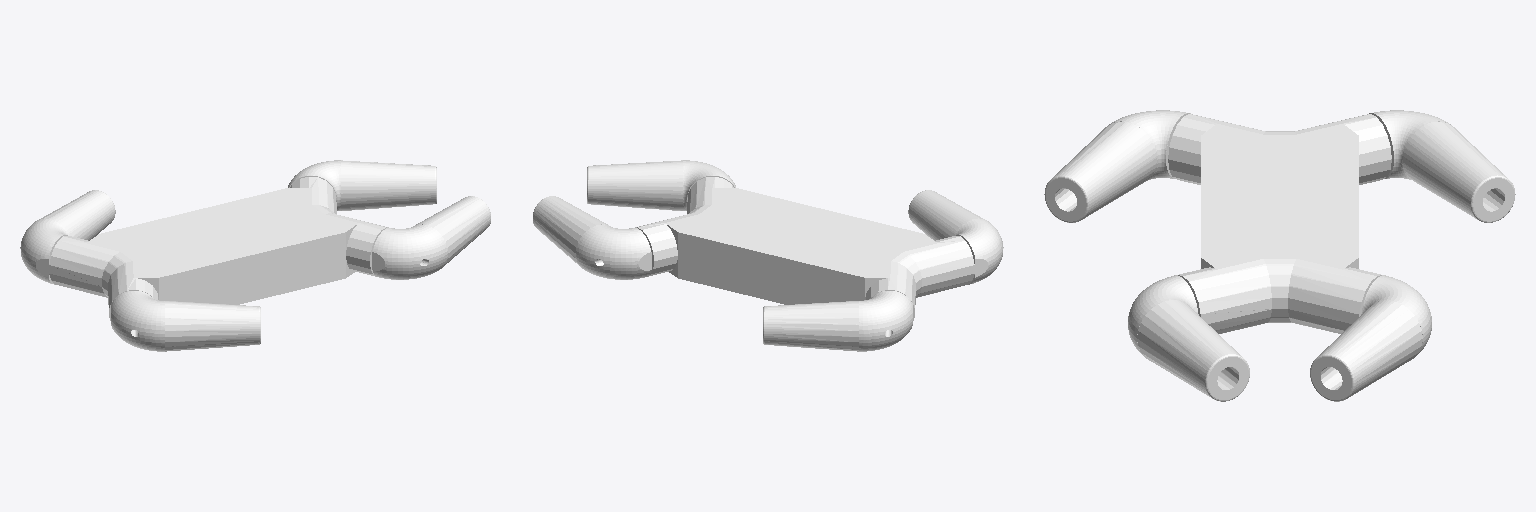
robot.urdf — 29_degree:
<?xml version="1.0" encoding="utf-8"?>
<!-- This URDF was automatically created by SolidWorks to URDF Exporter! Originally created by [author] ([email redacted]) 
     Commit Version: 1.5.1-0-g916b5db  Build Version: 1.5.7152.31018
     For more information, please see http://wiki.ros.org/sw_urdf_exporter -->
<robot
  name="29_degree">
  <link
    name="base_link">
    <inertial>
      <origin
        xyz="-1.3878E-17 5.3543E-08 3.4685E-08"
        rpy="0 0 0" />
      <mass
        value="2.942" />
      <inertia
        ixx="0.0092846"
        ixy="2.0444E-08"
        ixz="-1.5203E-10"
        iyy="0.0491402"
        iyz="4.3172E-19"
        izz="0.0559820" />
    </inertial>
    <visual>
      <origin
        xyz="0 0 0"
        rpy="0 0 0" />
      <geometry>
        <mesh
          filename="package://29_degree/meshes/base_link.STL" />
      </geometry>
      <material
        name="">
        <color
          rgba="1 1 1 1" />
      </material>
    </visual>
    <collision>
      <origin
        xyz="0 0 0"
        rpy="0 0 0" />
      <geometry>
        <mesh
          filename="package://29_degree/meshes/base_link.STL" />
      </geometry>
    </collision>
  </link>
  <link
    name="left_front_link">
    <inertial>
      <origin
        xyz="-8.9111E-08 0.056834 -0.03601"
        rpy="0 0 0" />
      <mass
        value="0.092" />
      <inertia
        ixx="0.0002604"
        ixy="5.3419E-10"
        ixz="2.4545E-10"
        iyy="0.0000526"
        iyz="2.27E-05"
        izz="0.0002575" />
    </inertial>
    <visual>
      <origin
        xyz="0 0 0"
        rpy="0 0 0" />
      <geometry>
        <mesh
          filename="package://29_degree/meshes/left_front_link.STL" />
      </geometry>
      <material
        name="">
        <color
          rgba="1 1 1 1" />
      </material>
    </visual>
    <collision>
      <origin
        xyz="0 0 0"
        rpy="0 0 0" />
      <geometry>
        <mesh
          filename="package://29_degree/meshes/left_front_link.STL" />
      </geometry>
    </collision>
  </link>
  <joint
    name="left_front_leg"
    type="continuous">
    <origin
      xyz="0.17994 0.090086 0"
      rpy="2.0769 1.5708 0" />
    <parent
      link="base_link" />
    <child
      link="left_front_link" />
    <axis
      xyz="0 0 -1" />
    <limit
      effort="5"
      velocity="487" />
  </joint>
  <link
    name="right_front_link">
    <inertial>
      <origin
        xyz="8.9111E-08 0.056834 0.03601"
        rpy="0 0 0" />
      <mass
        value="0.092" />
      <inertia
        ixx="0.0002604"
        ixy="-5.3419E-10"
        ixz="2.4545E-10"
        iyy="0.0000526"
        iyz="-2.27E-05"
        izz="0.0002575" />
    </inertial>
    <visual>
      <origin
        xyz="0 0 0"
        rpy="0 0 0" />
      <geometry>
        <mesh
          filename="package://29_degree/meshes/right_front_link.STL" />
      </geometry>
      <material
        name="">
        <color
          rgba="1 1 1 1" />
      </material>
    </visual>
    <collision>
      <origin
        xyz="0 0 0"
        rpy="0 0 0" />
      <geometry>
        <mesh
          filename="package://29_degree/meshes/right_front_link.STL" />
      </geometry>
    </collision>
  </link>
  <joint
    name="right_front_leg"
    type="continuous">
    <origin
      xyz="0.17994 -0.090086 0"
      rpy="1.0647 1.5708 0" />
    <parent
      link="base_link" />
    <child
      link="right_front_link" />
    <axis
      xyz="0 0 1" />
    <limit
      effort="5"
      velocity="487" />
  </joint>
  <link
    name="right_back_link">
    <inertial>
      <origin
        xyz="8.1346E-08 0.056834 0.03601"
        rpy="0 0 0" />
      <mass
        value="0.092" />
      <inertia
        ixx="0.0002604"
        ixy="-4.494E-10"
        ixz="6.0154E-10"
        iyy="0.0000526"
        iyz="-2.27E-05"
        izz="0.0002575" />
    </inertial>
    <visual>
      <origin
        xyz="0 0 0"
        rpy="0 0 0" />
      <geometry>
        <mesh
          filename="package://29_degree/meshes/right_back_link.STL" />
      </geometry>
      <material
        name="">
        <color
          rgba="1 1 1 1" />
      </material>
    </visual>
    <collision>
      <origin
        xyz="0 0 0"
        rpy="0 0 0" />
      <geometry>
        <mesh
          filename="package://29_degree/meshes/right_back_link.STL" />
      </geometry>
    </collision>
  </link>
  <joint
    name="right_back_leg"
    type="continuous">
    <origin
      xyz="-0.17994 -0.090086 0"
      rpy="2.0769 1.5708 0" />
    <parent
      link="base_link" />
    <child
      link="right_back_link" />
    <axis
      xyz="0 0 1" />
    <limit
      effort="5"
      velocity="487" />
  </joint>
  <link
    name="left_back_link">
    <inertial>
      <origin
        xyz="-8.1346E-08 0.056834 -0.03601"
        rpy="0 0 0" />
      <mass
        value="0.092" />
      <inertia
        ixx="0.0002604"
        ixy="4.494E-10"
        ixz="6.0154E-10"
        iyy="0.0000526"
        iyz="2.27E-05"
        izz="0.0002575" />
    </inertial>
    <visual>
      <origin
        xyz="0 0 0"
        rpy="0 0 0" />
      <geometry>
        <mesh
          filename="package://29_degree/meshes/left_back_link.STL" />
      </geometry>
      <material
        name="">
        <color
          rgba="1 1 1 1" />
      </material>
    </visual>
    <collision>
      <origin
        xyz="0 0 0"
        rpy="0 0 0" />
      <geometry>
        <mesh
          filename="package://29_degree/meshes/left_back_link.STL" />
      </geometry>
    </collision>
  </link>
  <joint
    name="left_back_leg"
    type="continuous">
    <origin
      xyz="-0.17994 0.090086 0"
      rpy="1.0647 1.5708 0" />
    <parent
      link="base_link" />
    <child
      link="left_back_link" />
    <axis
      xyz="0 0 -1" />
    <limit
      effort="5"
      velocity="487" />
  </joint>
</robot>

--- Render facts (derived) ---
3 views of the same robot in one strip: view 1: azimuth 30°, elevation 25°; view 2: azimuth 150°, elevation 25°; view 3: azimuth 270°, elevation 25° (orthographic).
Model 29_degree with 5 links and 4 joints (4 continuous), rooted at base_link, posed every joint at zero.
Visible links, largest first — view 1: base_link, right_back_link, right_front_link, left_front_link, left_back_link; view 2: base_link, left_back_link, left_front_link, right_front_link, right_back_link; view 3: base_link, left_front_link, right_back_link, left_back_link, right_front_link.
Link boxes in pixels (<box>): base_link: <box>49,177,388,320</box>; right_back_link: <box>111,291,260,351</box>; right_front_link: <box>372,196,490,279</box>; left_front_link: <box>288,160,436,210</box>; left_back_link: <box>20,190,115,284</box>; base_link: <box>635,177,974,320</box>; left_back_link: <box>763,291,912,351</box>; left_front_link: <box>533,196,651,279</box>; right_front_link: <box>587,160,735,210</box>; right_back_link: <box>908,190,1003,284</box>; base_link: <box>1168,114,1391,333</box>; left_front_link: <box>1310,275,1431,401</box>; right_back_link: <box>1044,110,1190,222</box>; left_back_link: <box>1369,110,1515,222</box>; right_front_link: <box>1128,275,1249,401</box>.
Size in the robot's own frame: 0.5664 by 0.4445 by 0.064 metres.
5 mesh visuals loaded from 5 distinct referenced files (5 binary STL).